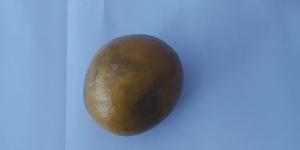BAD: (82, 34, 187, 140)
